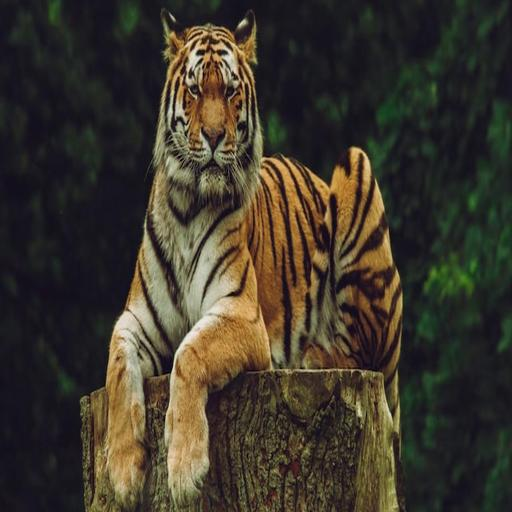Tiger: (73, 9, 428, 512)
